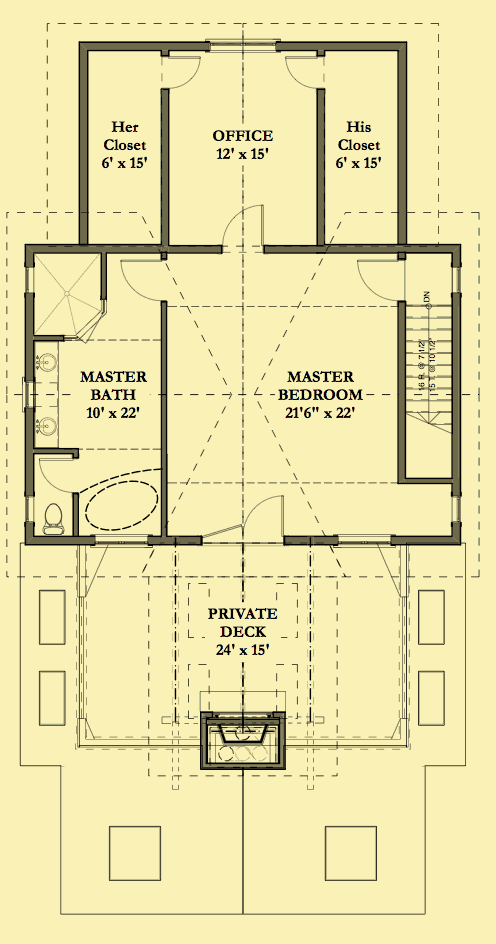door: (197, 490, 287, 548), (219, 197, 274, 252), (355, 253, 407, 305), (118, 258, 169, 304), (37, 456, 80, 496), (285, 53, 325, 93), (163, 54, 202, 90)
large_sink: (36, 495, 78, 540)
small_sink: (33, 339, 63, 448)
stairs: (396, 302, 459, 451)
tub: (83, 472, 159, 535)
window: (201, 37, 281, 51), (328, 534, 398, 549), (448, 495, 465, 527)
